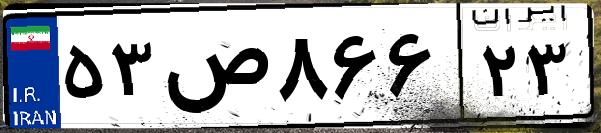2: (475, 38, 525, 113)
3: (525, 38, 570, 115), (110, 28, 158, 98)
5: (57, 26, 110, 100)
6: (385, 28, 445, 110), (330, 28, 385, 110)
8: (270, 28, 330, 110)
ص: (158, 20, 270, 120)
